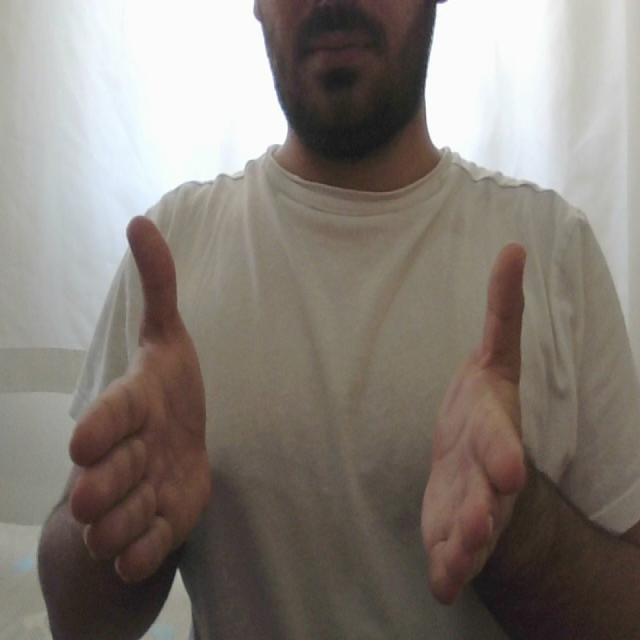Nasil: (58, 200, 553, 608)
